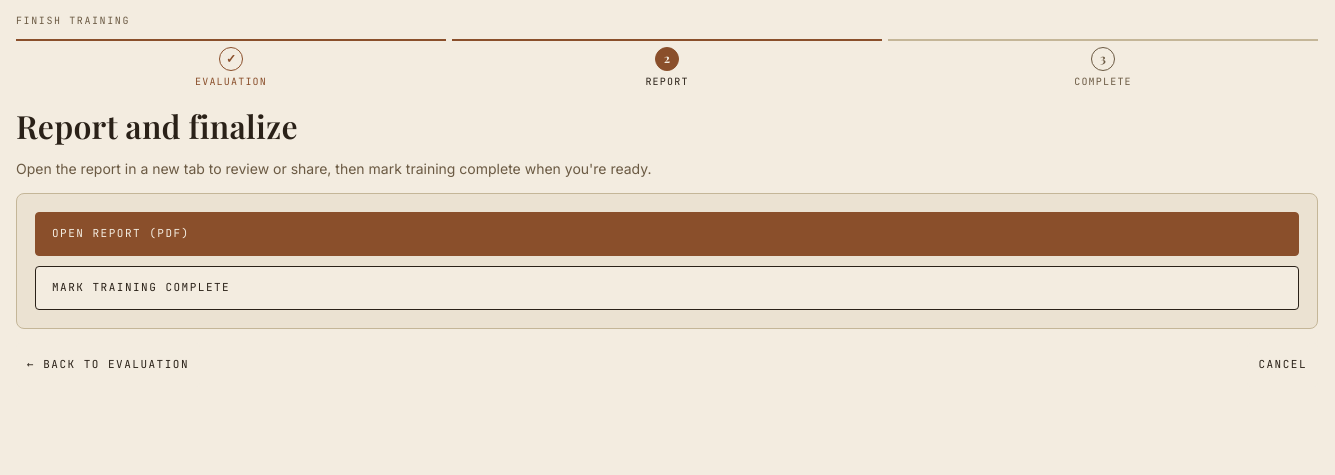
it: successful completion stays complete while the horse cache still holds the previous status
Step 1. Click the button "Mark training complete" → (141, 287), box [35,266,1299,310]
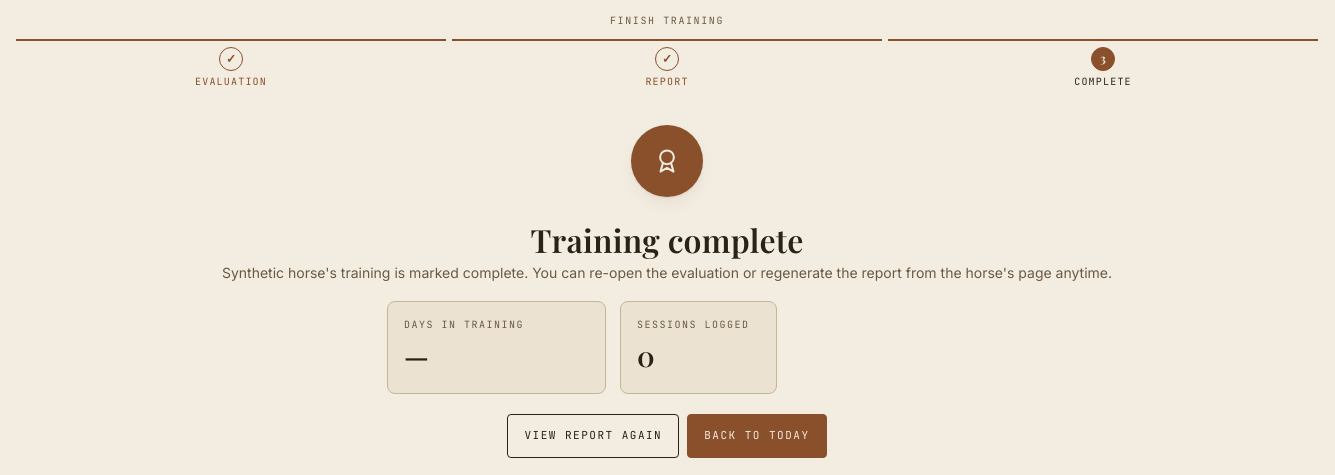
Check: the heading "Training complete" is shown, box [530,218,804,261]
